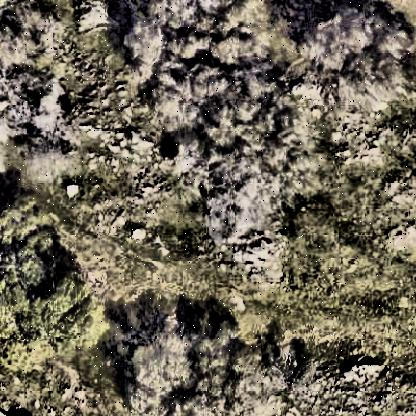tree-top: (151, 63, 317, 225), (1, 165, 88, 365), (118, 331, 316, 416), (293, 2, 407, 120), (138, 1, 264, 75), (1, 78, 80, 143), (1, 1, 67, 66)
